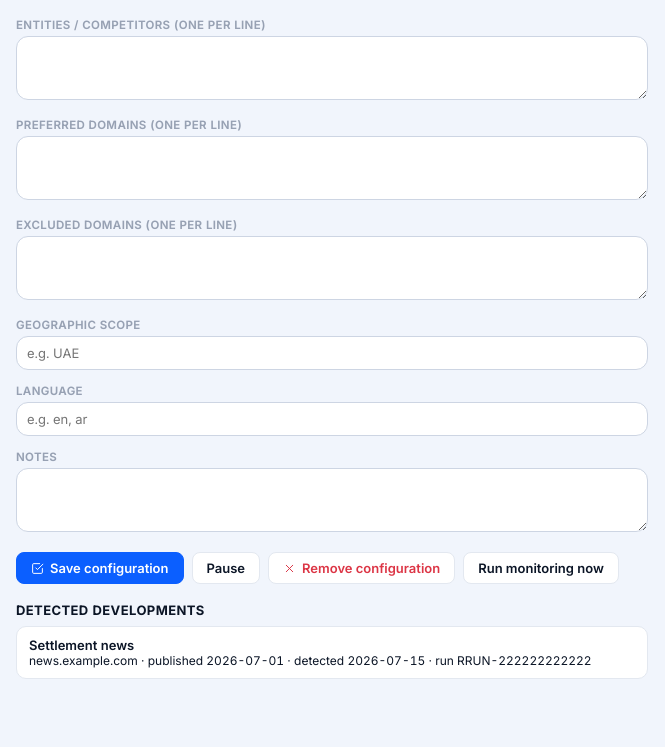
Test: UserMonitoringPanel manual run (Phase R4a) › a run posts to /monitoring/run and renders the note and new events verbatim
(page scrolled)
Click the button "Run monitoring now".
click(541, 568)  # box [463, 552, 619, 584]
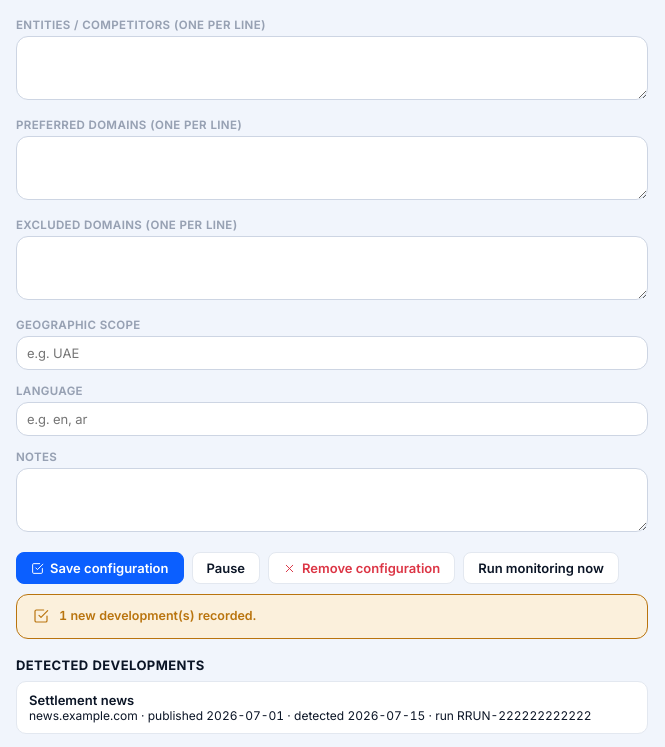
Expected: the element with test id "monitoring-event" shows "Settlement news", [29, 692, 134, 708]
Result: the element with test id "monitoring-run-note" reads "1 new development(s) recorded." at [59, 608, 256, 623]
